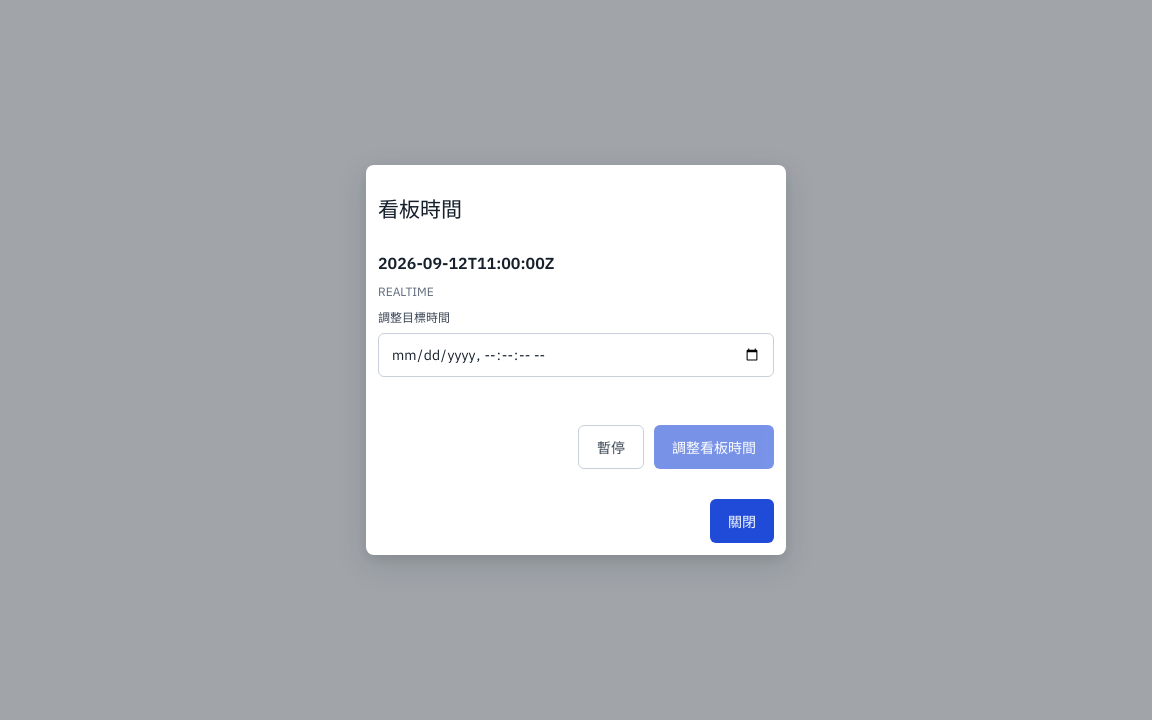
s-board-clock-control › Owner 調整看板時間後，觸發 uc-adjust-board-clock 且畫面更新為調整後的時間
Expected: the text "2026-09-12T11:00:00Z" is shown, [378,253,554,273]
Type "2026-09-12T13:00:00" into the field labelled "調整目標時間" at coordinates (576, 355), box [378,333,774,377]
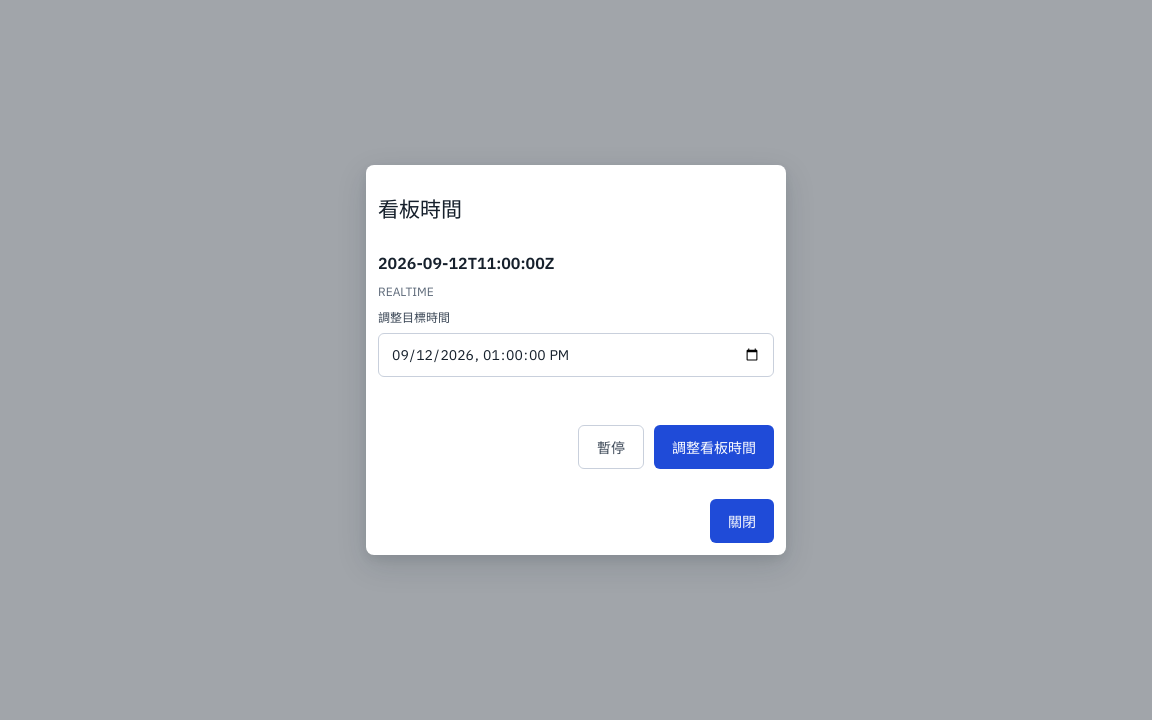
Click the button "調整看板時間" at coordinates (714, 447), box [654,425,774,469]
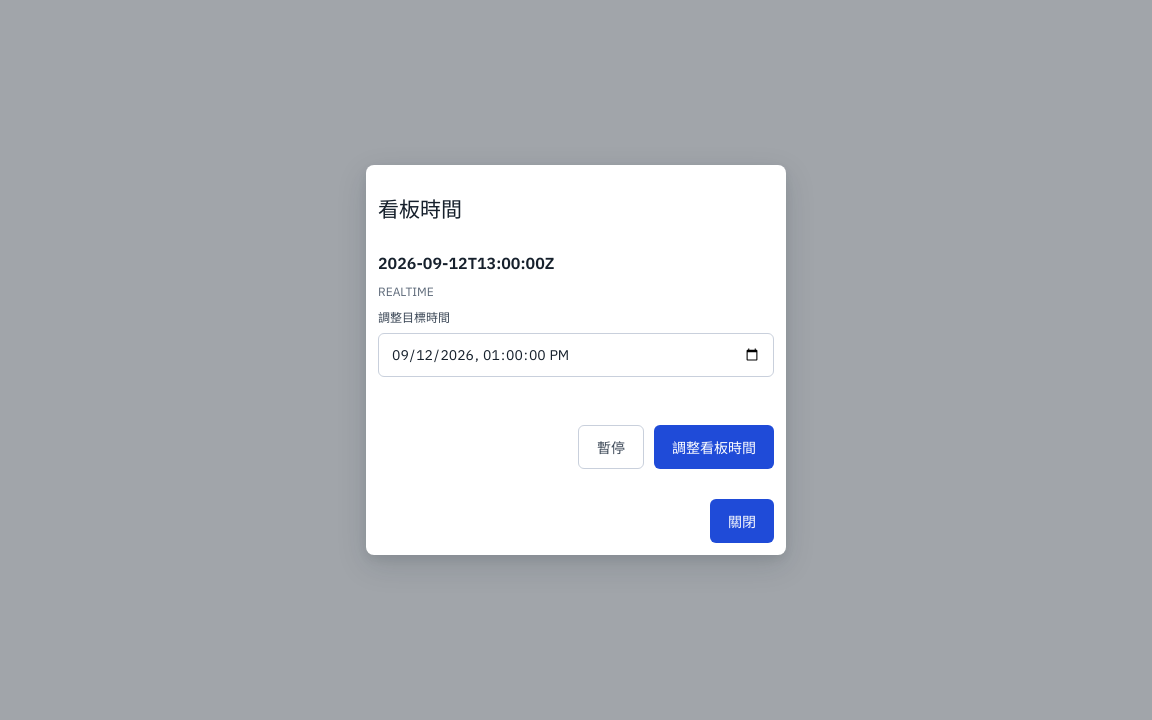
Expected: the text with test id "clock-control-time" reads "2026-09-12T13:00:00Z", [378,253,554,273]
